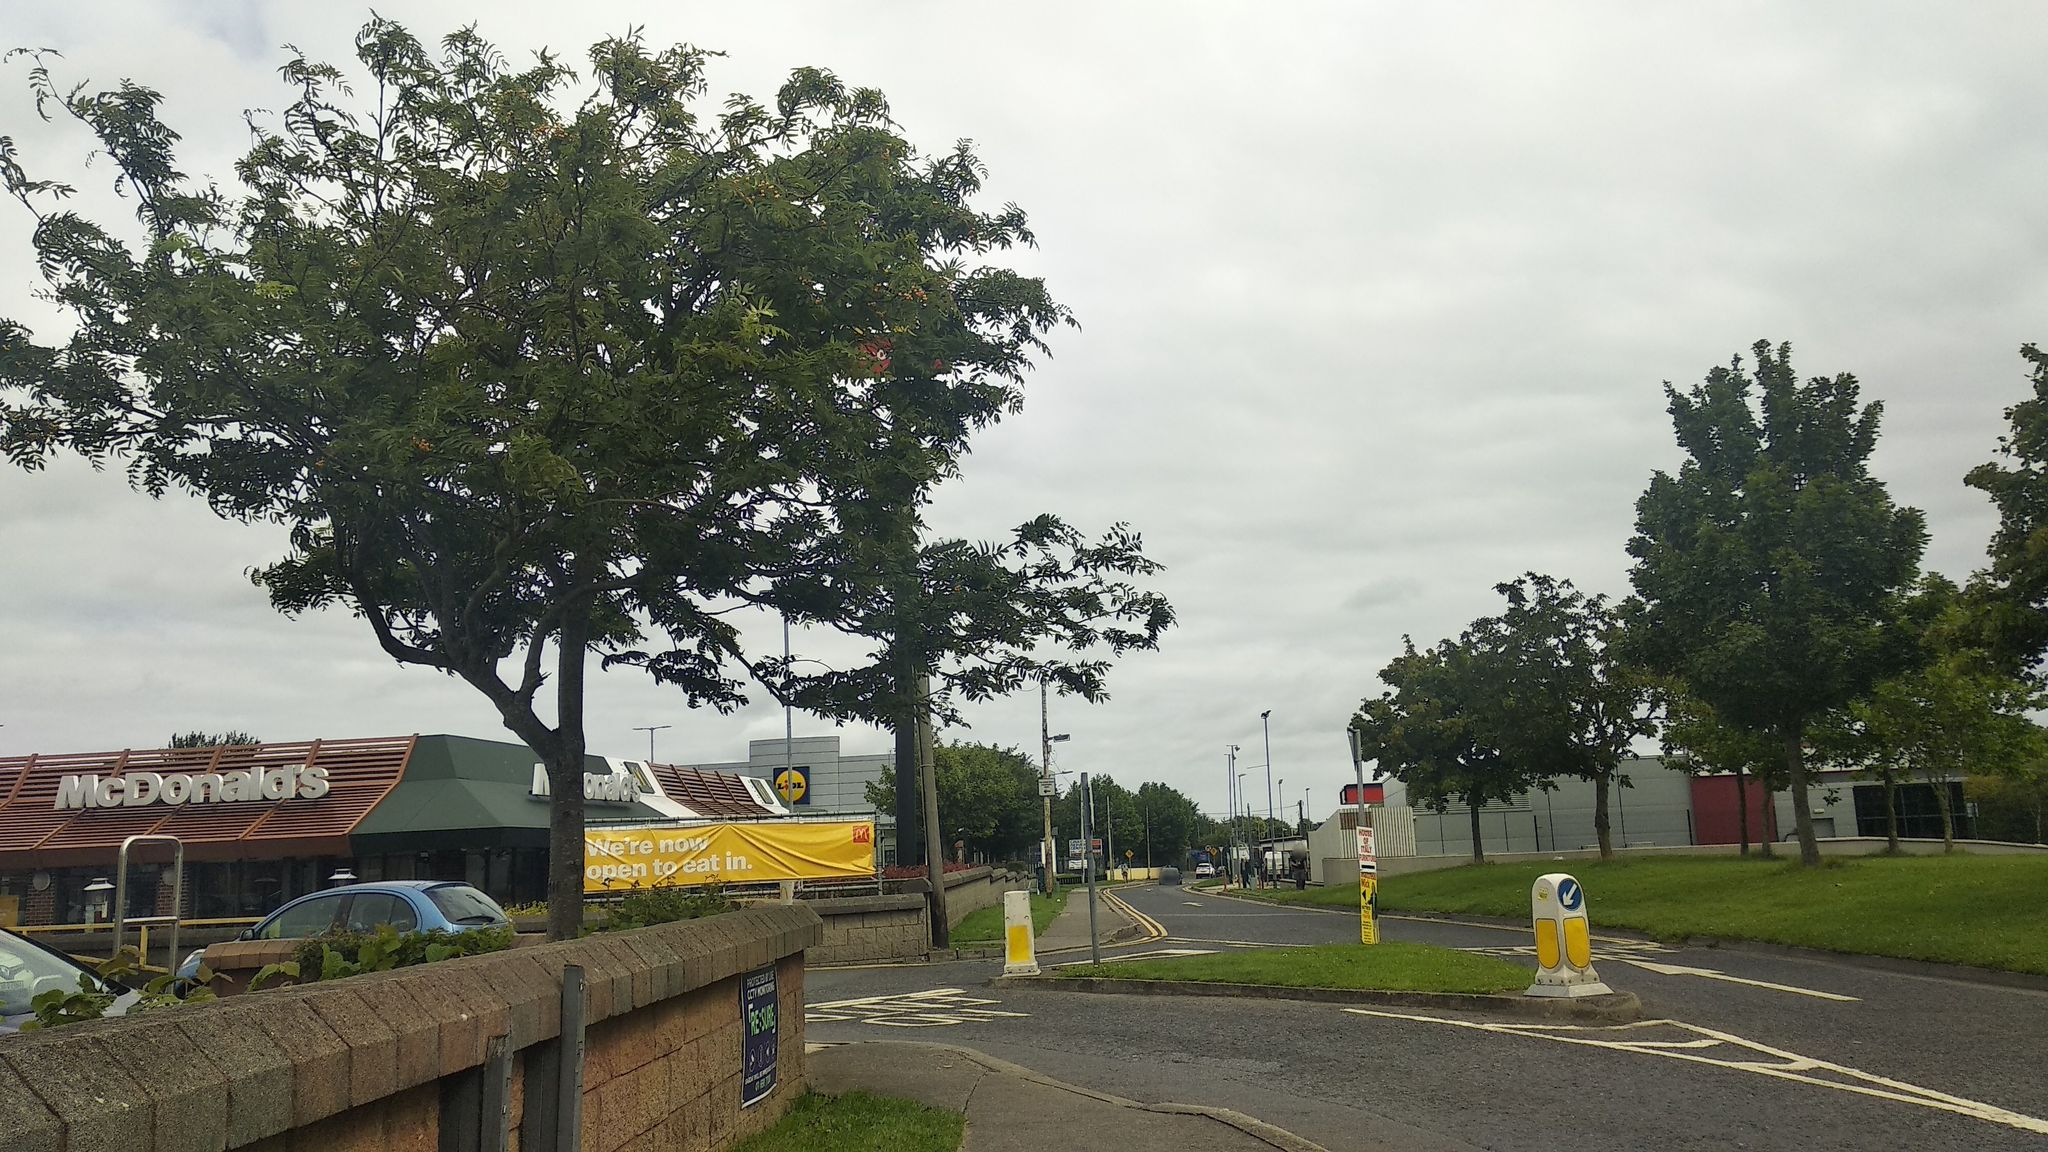vinyl banner: (572, 814, 888, 890)
